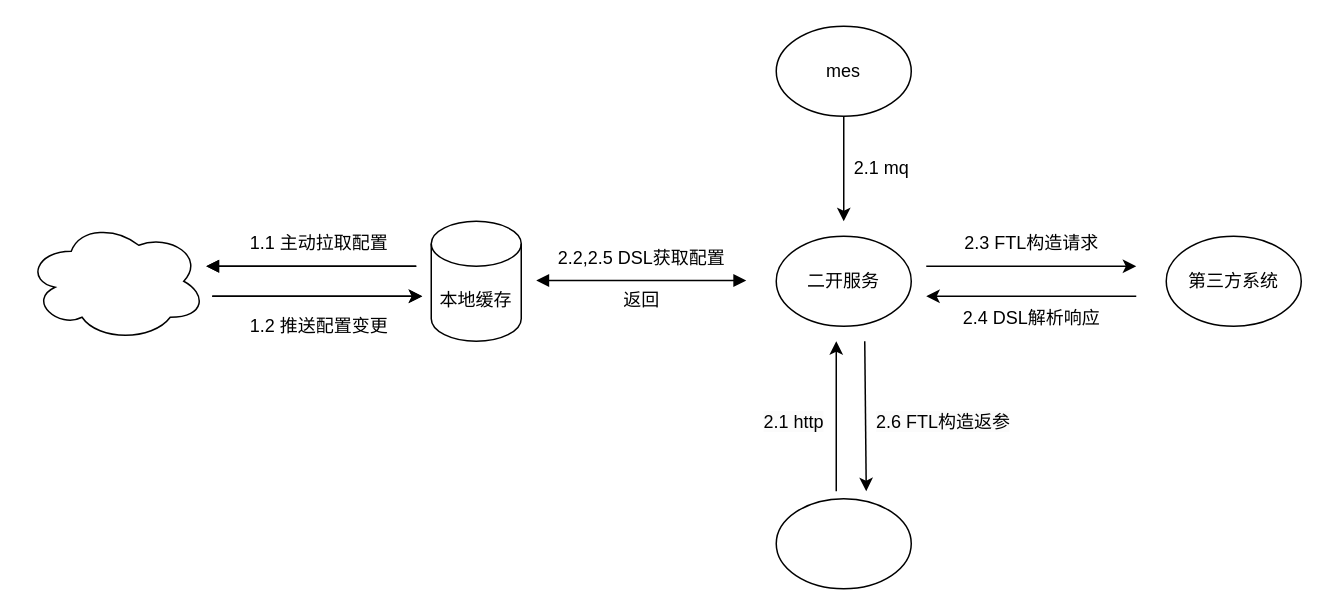
Some shapes in this 1328 by 615 pixel diagram are drawn without their labels. Each missing label, with the centre of its shape:
"二开前端" belongs at point (843, 543).
"配置中心" belongs at point (115, 280).
